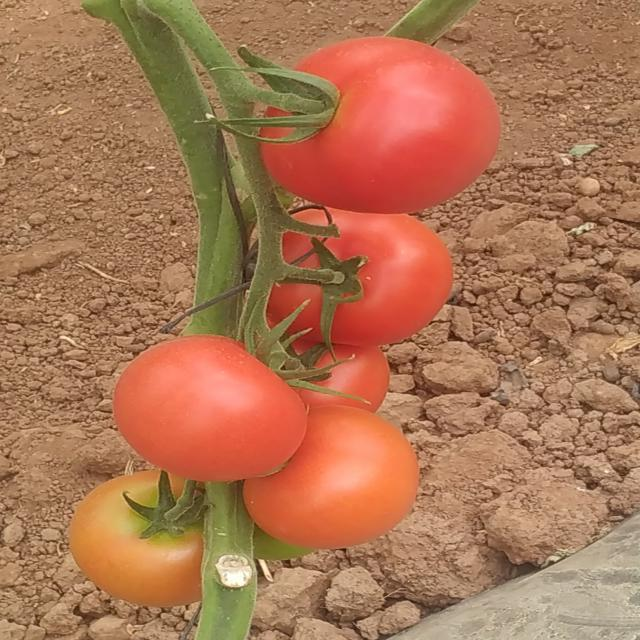Ripe Tomato: (252, 28, 504, 212), (114, 322, 318, 486), (252, 213, 453, 344), (257, 402, 418, 543), (64, 486, 226, 602), (327, 351, 387, 404)
